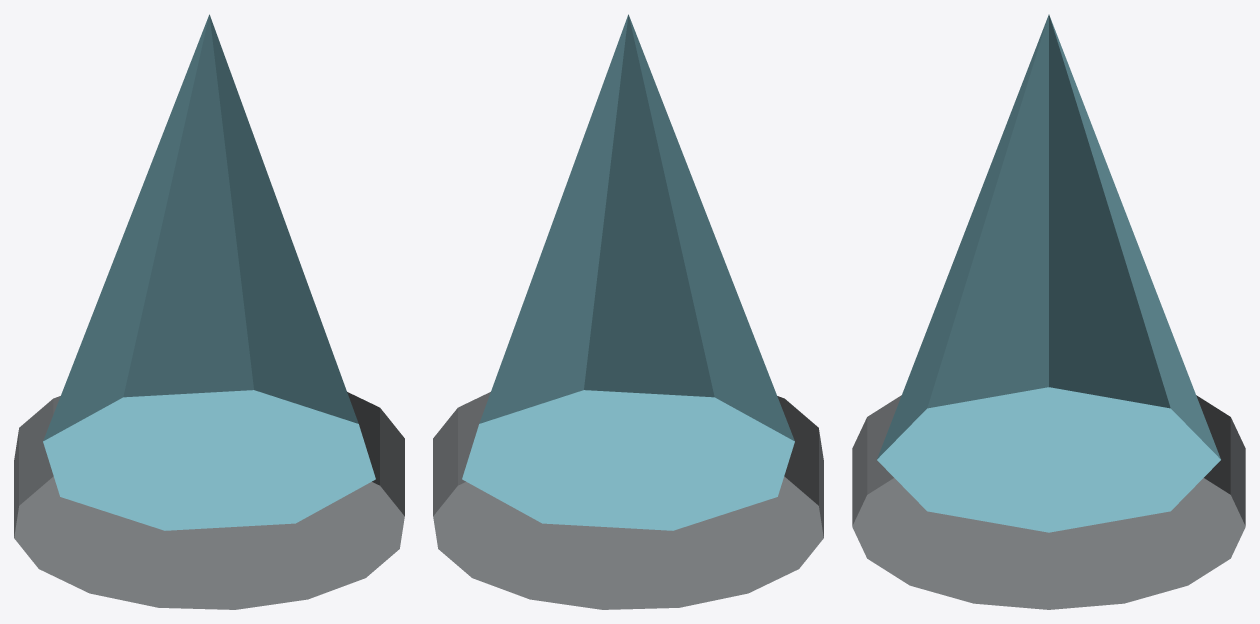
The model's file is energy_node_01.glb.
The picture shows the model from 3 angles, left to right: view 1: azimuth 30°, elevation 25°; view 2: azimuth 150°, elevation 25°; view 3: azimuth 270°, elevation 25°; orthographic projection.
Parts seen in each view (by area): view 1: world; view 2: world; view 3: world.
Part boxes in pixels (x1,y1,x2,y2): world: [14, 14, 404, 609]; world: [433, 14, 823, 609]; world: [852, 14, 1245, 609].
Size of the model in its own units: 0.64 by 0.92 by 0.64.
